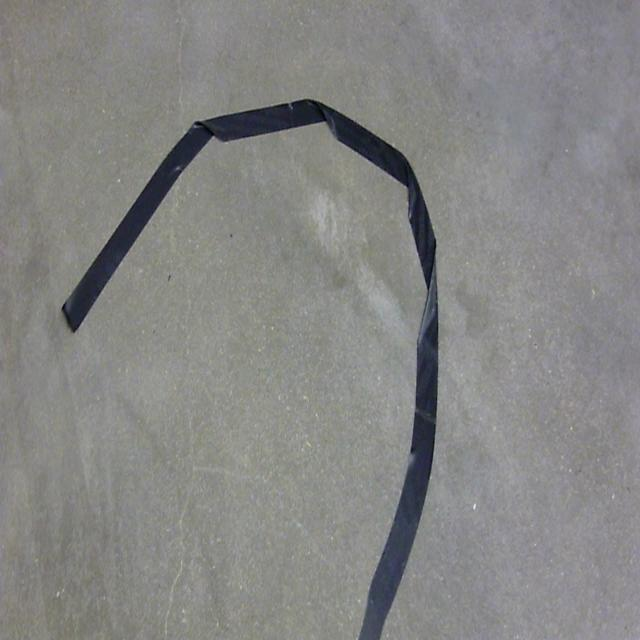tape: (30, 77, 477, 640)
